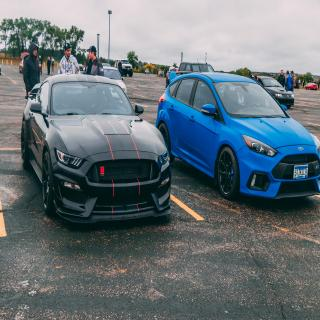Normal_vehicle: (21, 76, 173, 236), (158, 69, 320, 207), (249, 67, 293, 107), (158, 57, 216, 85), (94, 60, 128, 90), (117, 50, 136, 77), (303, 78, 319, 99)
